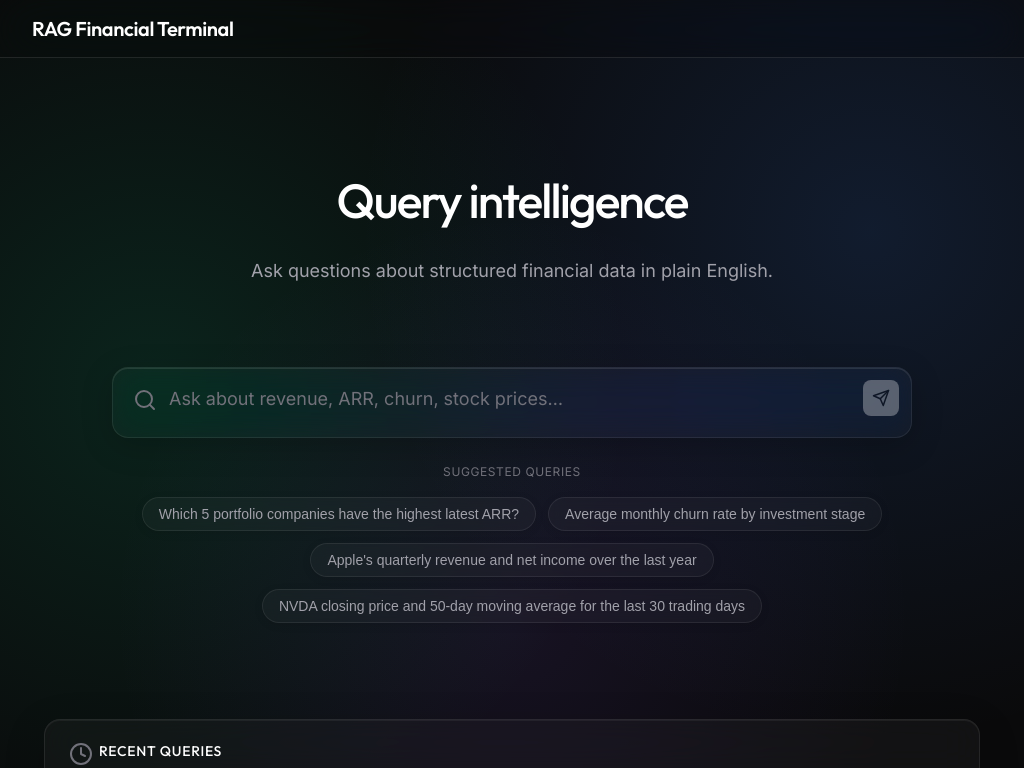
Test case: App › runs a query and renders the answer, SQL, trace and data
Type "Top companies by ARR" into the text box named "ask a question". click: (512, 399)
box: [113,368,911,429]
Then press Enter
(page scrolled)
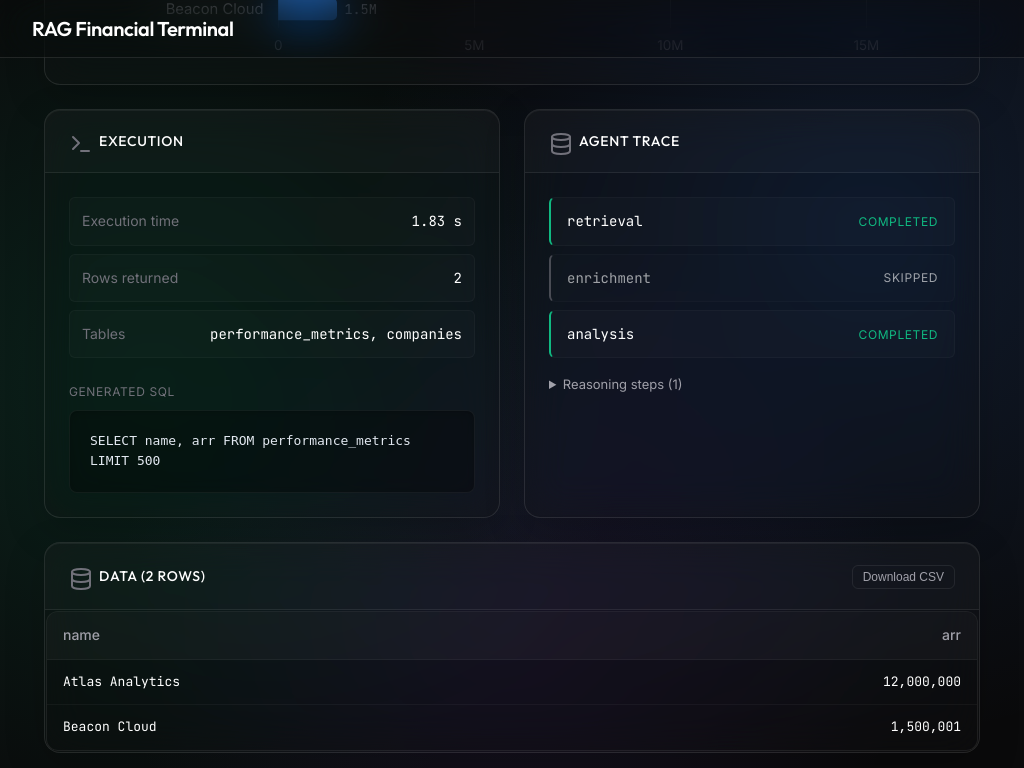
Now the text "SELECT name, arr FROM performance_metrics LIMIT 500" is shown, box [90,433,419,468]
Now the text "1.83 s" is shown, box [412,210,462,233]
Now the text "12,000,000" is shown, box [582,659,977,705]
